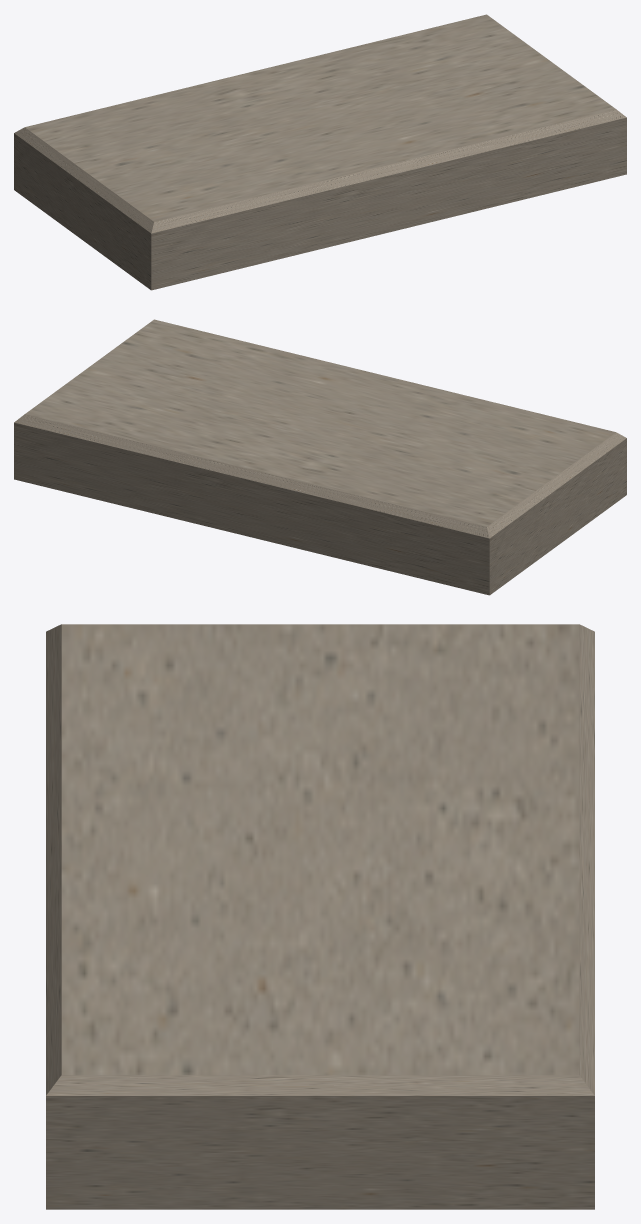
The model's file is concrete_step.glb.
3 views of the same model, one above another, from view 1: azimuth 30°, elevation 25°; view 2: azimuth 150°, elevation 25°; view 3: azimuth 270°, elevation 25° (orthographic). The views are drawn at different scales.
Visible parts, largest first — view 1: outdoor_concrete_step; view 2: outdoor_concrete_step; view 3: outdoor_concrete_step.
Boxes of the visible parts, left/top/right/bottom form: outdoor_concrete_step: left=14, top=14, right=626, bottom=290; outdoor_concrete_step: left=14, top=319, right=626, bottom=595; outdoor_concrete_step: left=46, top=624, right=594, bottom=1209.
Size of the model in its own units: 1.4 by 0.18 by 0.7.
1 material, 1 textured.
